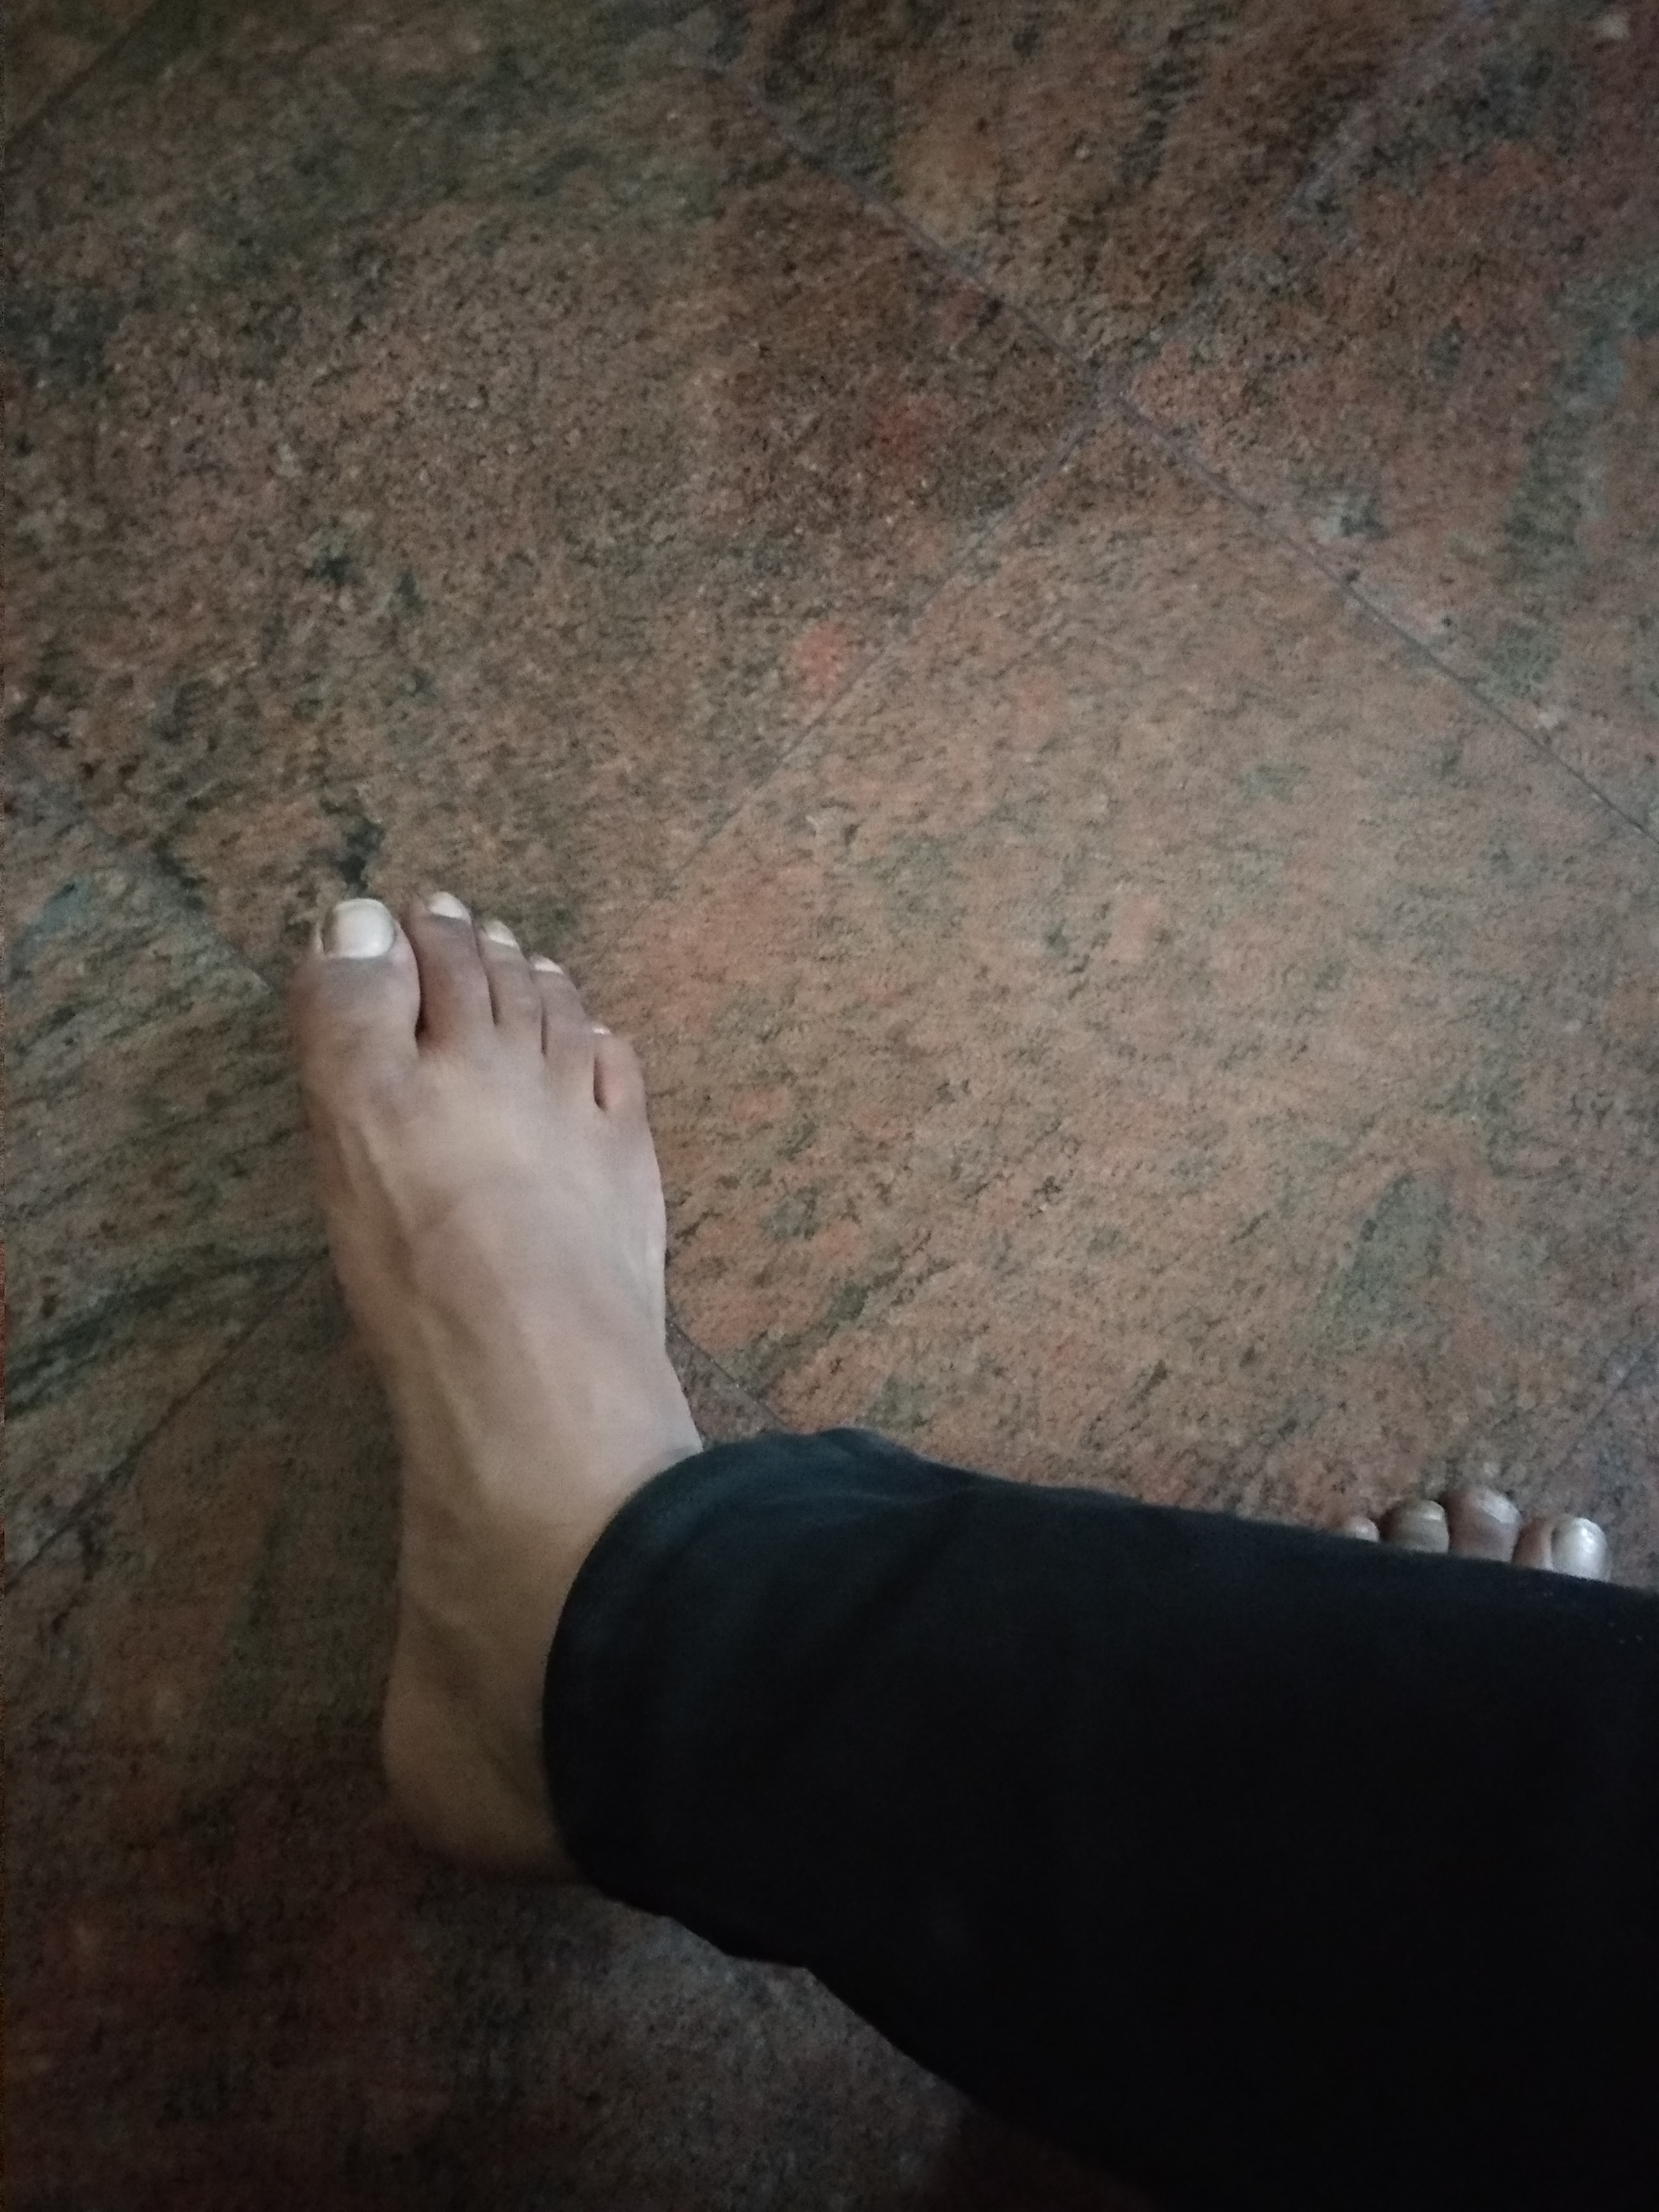feet: (188, 805, 817, 1898)
